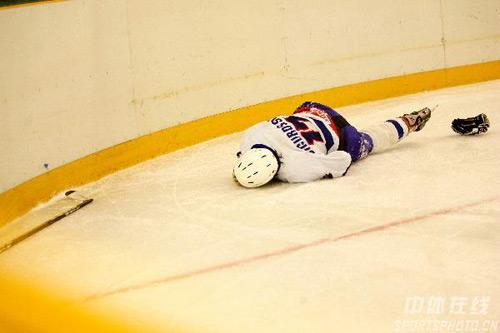down: (226, 97, 434, 193)
